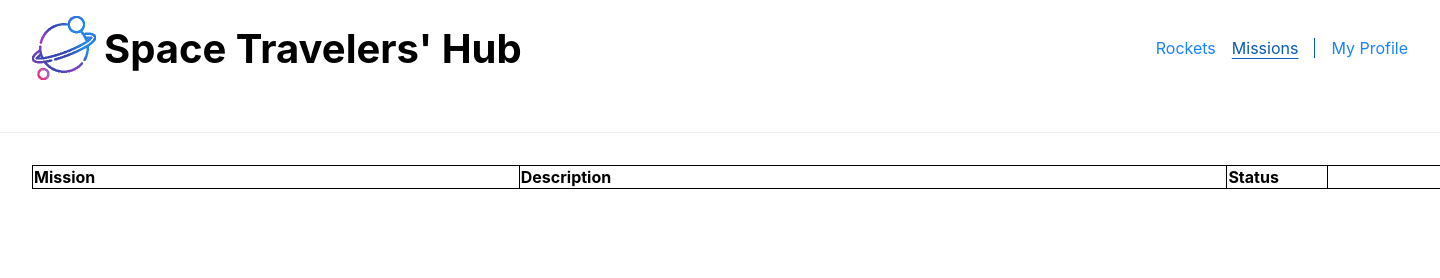
Navigation links - › clicking on the "My Profile" link loads the My Profile page
The width and height of the screenshot is (1440, 278).
Click the link with test id "navlink-my-profile-page" at (1370, 48), box [1331,38,1408,58]
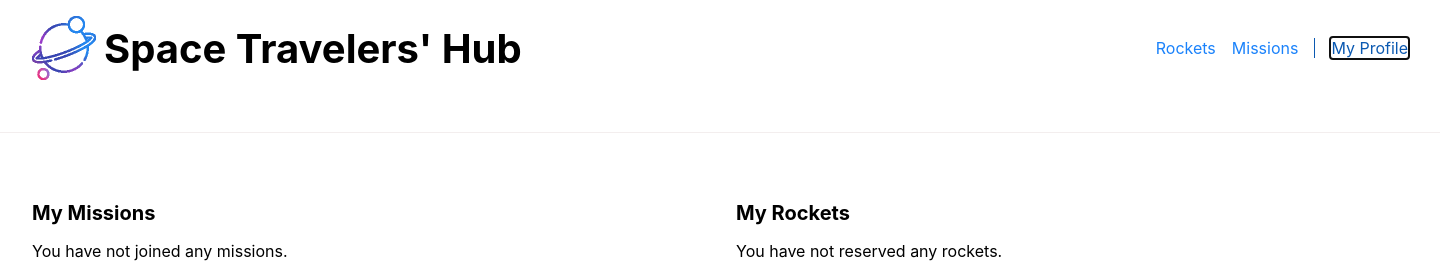
Result: the element with test id "my-profile-page-content" is shown at [32,201,1002,261]
Result: the heading "My Missions" is shown at [32,201,155,225]
Result: the heading "My Rockets" is shown at [736,201,850,225]
